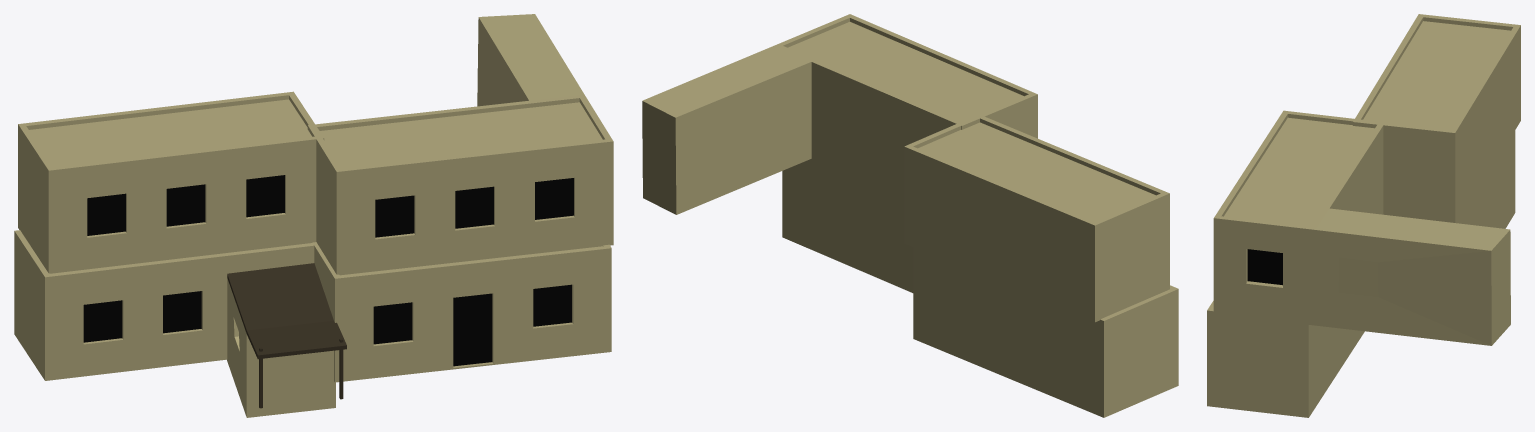
Rendered from _ig house.fbx.
3 renders of one model, left to right at view 1: azimuth 30°, elevation 25°; view 2: azimuth 150°, elevation 25°; view 3: azimuth 270°, elevation 25°, orthographic. The views are drawn at different scales.
Visible parts, largest first — view 1: polySurface177; view 2: polySurface177; view 3: polySurface177.
Part boxes in pixels (x1,y1,x2,y2): polySurface177: (14, 14, 613, 417); polySurface177: (642, 14, 1178, 417); polySurface177: (1207, 14, 1520, 417).
Size of the model in its own units: 2148 by 903 by 1190.
